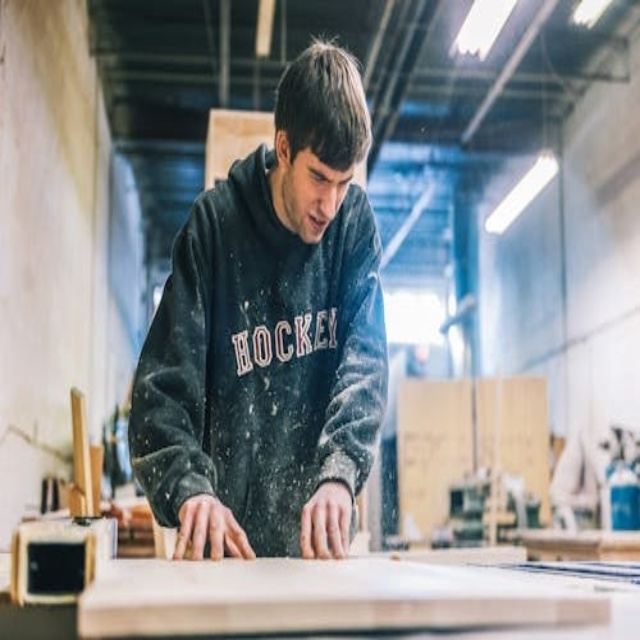Sin_gafas: (297, 154, 360, 200)
Sin_guantes: (171, 493, 256, 563), (298, 480, 354, 559)
Sin_mascara: (297, 204, 329, 244)
